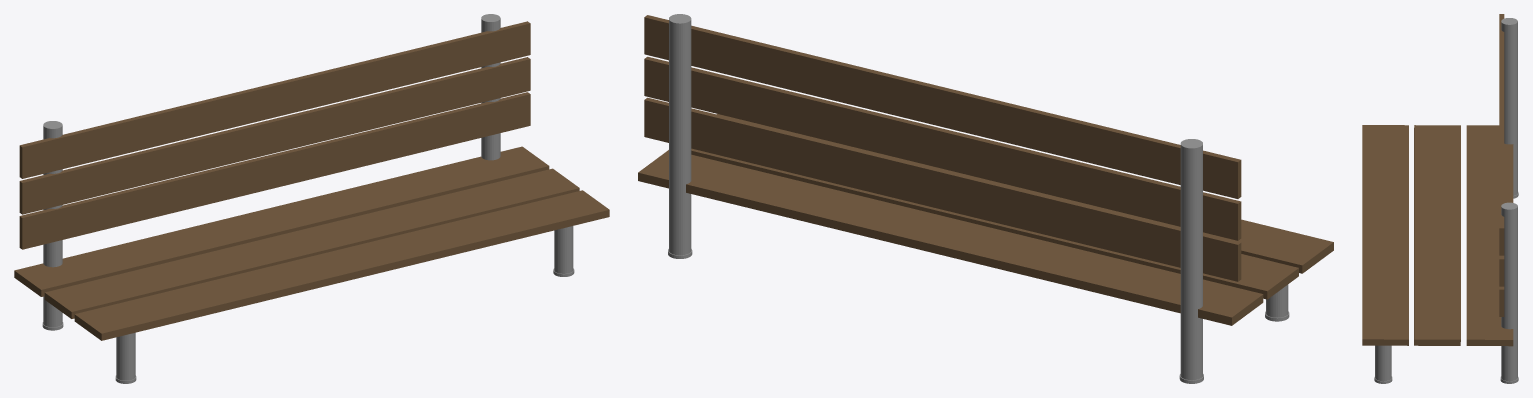
File: banco 2 .fbx
3 renders of one model, left to right at view 1: azimuth 30°, elevation 25°; view 2: azimuth 150°, elevation 25°; view 3: azimuth 270°, elevation 25°, orthographic. The views are drawn at different scales.
Parts seen in each view (by area): view 1: Cube.001; view 2: Cube.001; view 3: Cube.001.
Boxes of the visible parts, x1,y1,x2,y2 form: Cube.001: (14,14,609,383); Cube.001: (638,14,1333,383); Cube.001: (1362,14,1518,383).
Size of the model in its own units: 543 by 205 by 167.
